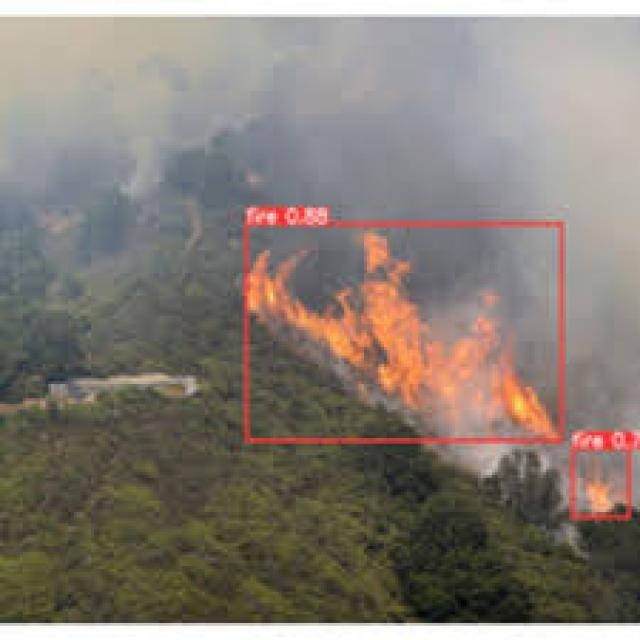Fire: (248, 218, 561, 446), (567, 456, 634, 524)
Smoke: (349, 14, 640, 396), (0, 21, 260, 209)
